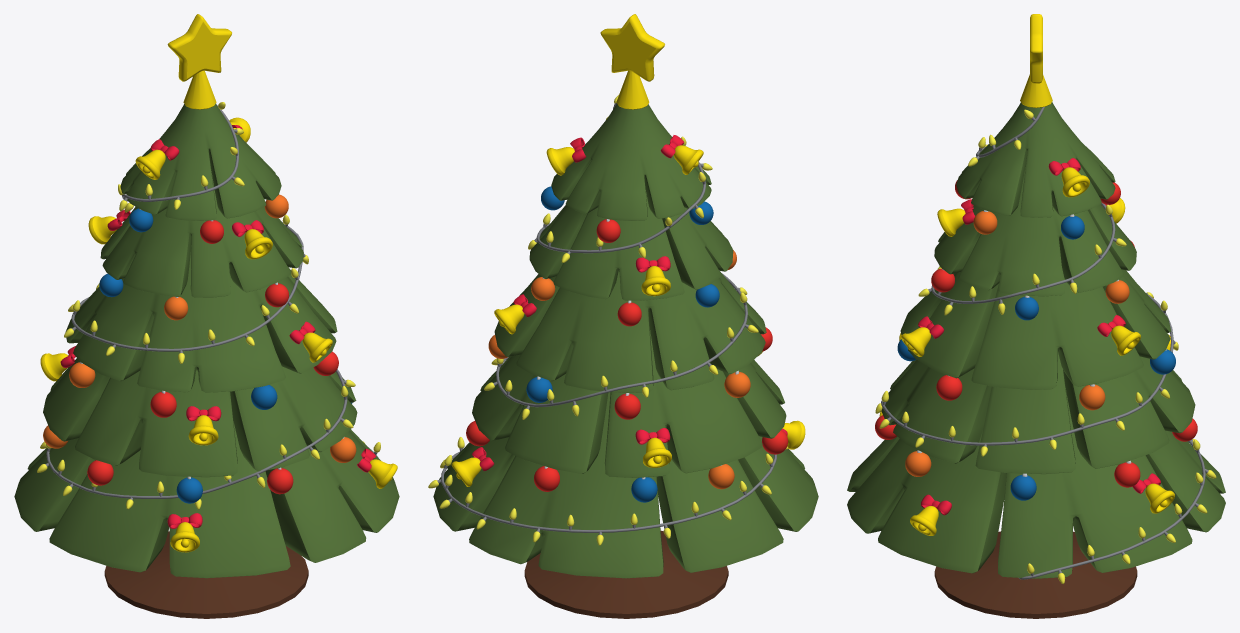
Rendered from Christmas_tree.fbx.
3 renders of one model, left to right at view 1: azimuth 30°, elevation 25°; view 2: azimuth 150°, elevation 25°; view 3: azimuth 270°, elevation 25°, orthographic.
Visible parts, largest first — view 1: Christmas_tree; view 2: Christmas_tree; view 3: Christmas_tree.
Boxes of the visible parts, left/top/right/bottom form: Christmas_tree: left=14, top=14, right=399, bottom=618; Christmas_tree: left=428, top=14, right=818, bottom=618; Christmas_tree: left=847, top=14, right=1225, bottom=618.
Bounding box in the file's own units: 1.49 × 2.37 × 1.45.
